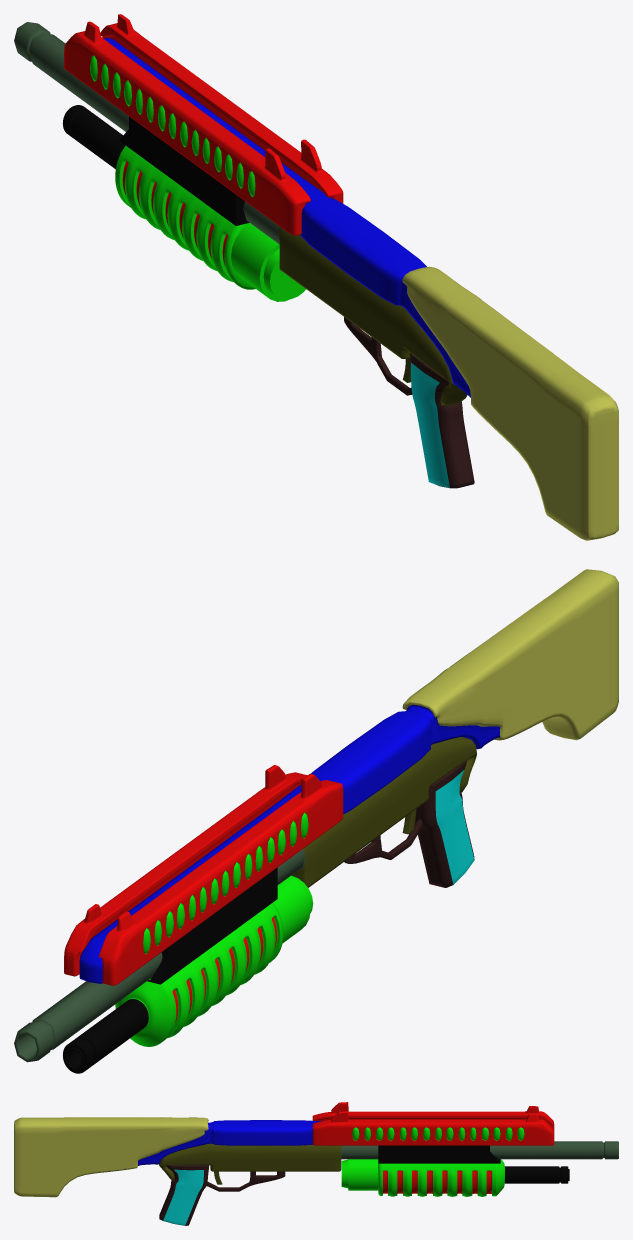
The model's file is Escopeta.fbx.
The picture shows the model from 3 angles, top to bottom: view 1: azimuth 30°, elevation 25°; view 2: azimuth 150°, elevation 25°; view 3: azimuth 270°, elevation 25°; orthographic projection. The views are drawn at different scales.
Visible parts, largest first — view 1: Escopeta1; view 2: Escopeta1; view 3: Escopeta1.
Boxes of the visible parts, x1,y1,x2,y2 form: Escopeta1: [14, 14, 618, 540]; Escopeta1: [14, 569, 618, 1073]; Escopeta1: [14, 1102, 618, 1225].
Size of the model in its own units: 2.26 by 7.77 by 36.54.
